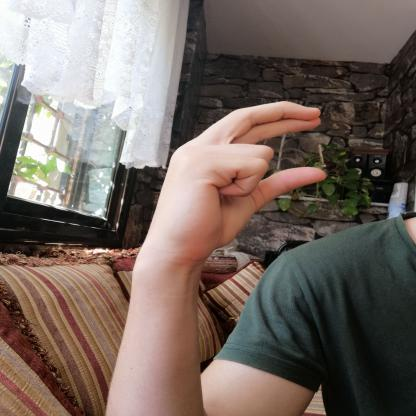DHELL: (132, 94, 340, 267)
